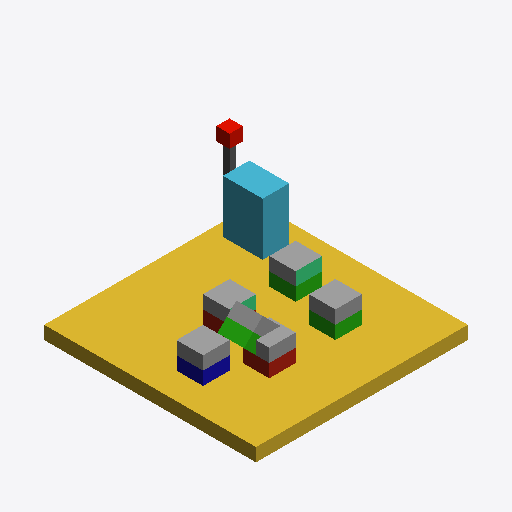
Isometric view (azimuth 45°, elevation 35.3°) of a Minecraft model made of 13 cuboids, textured from the same repository.
Visible parts, largest first — element 1, element 3, element 9, element 10, element 11, element 8, element 13, element 12, element 6.
Part boxes in pixels (x1,y1,x2,y2): element 1: (44,222,467,461); element 3: (223,161,288,259); element 9: (177,325,229,385); element 10: (269,241,321,301); element 11: (309,279,361,339); element 8: (243,317,295,377); element 13: (218,301,279,354); element 12: (203,279,255,336); element 6: (216,118,242,148).
Size of the model in its own units: 16 by 11 by 16.